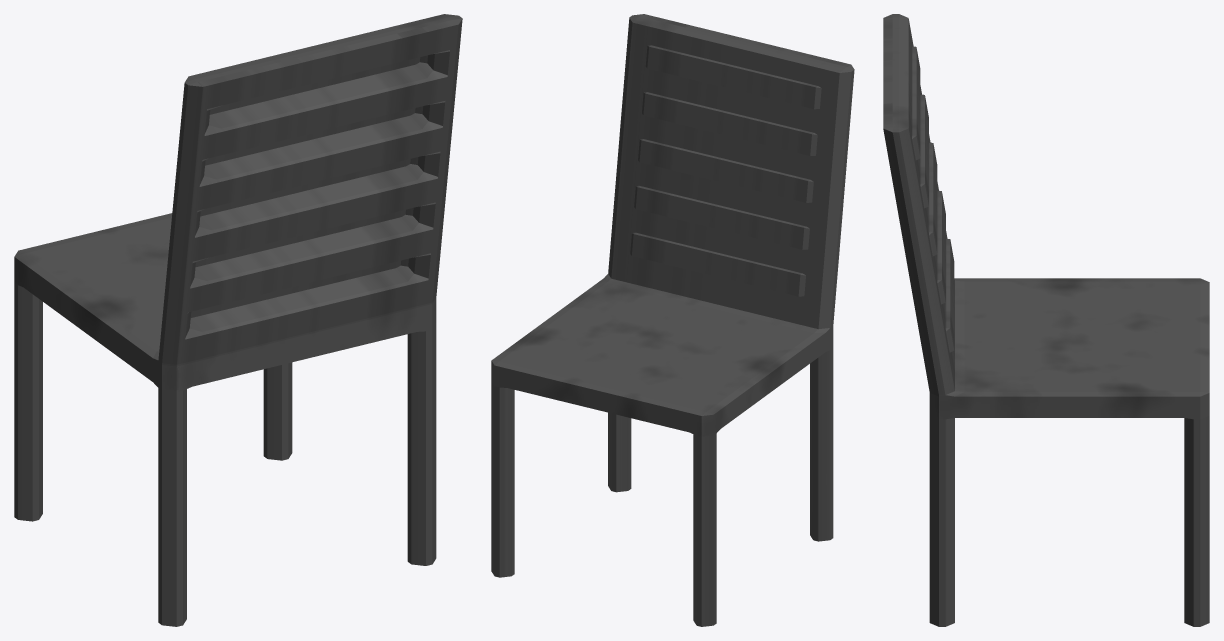
Rendered from chair.glb.
3 views of the same model, side by side, from view 1: azimuth 30°, elevation 25°; view 2: azimuth 150°, elevation 25°; view 3: azimuth 270°, elevation 25° (orthographic). The views are drawn at different scales.
Parts seen in each view (by area): view 1: Cube; view 2: Cube; view 3: Cube.
Part boxes in pixels (x1=…): Cube: x1=14, y1=14, x2=462, y2=626; Cube: x1=491, y1=14, x2=854, y2=626; Cube: x1=883, y1=14, x2=1209, y2=626.
Size of the model in its own units: 2 by 3.91 by 2.33.
Materials: 1 (1 with a texture image).
